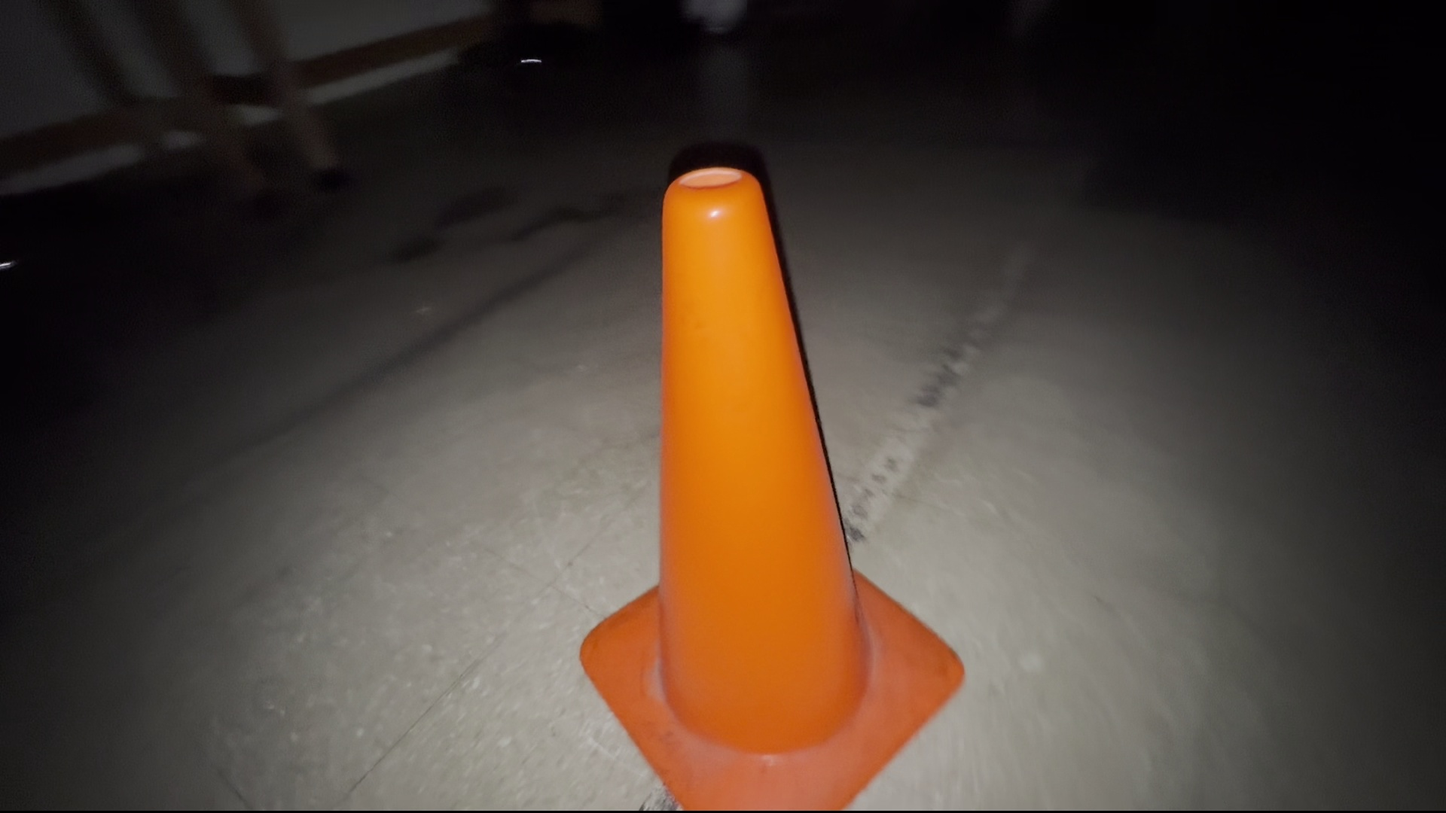traffic_cone: (578, 164, 966, 811)
